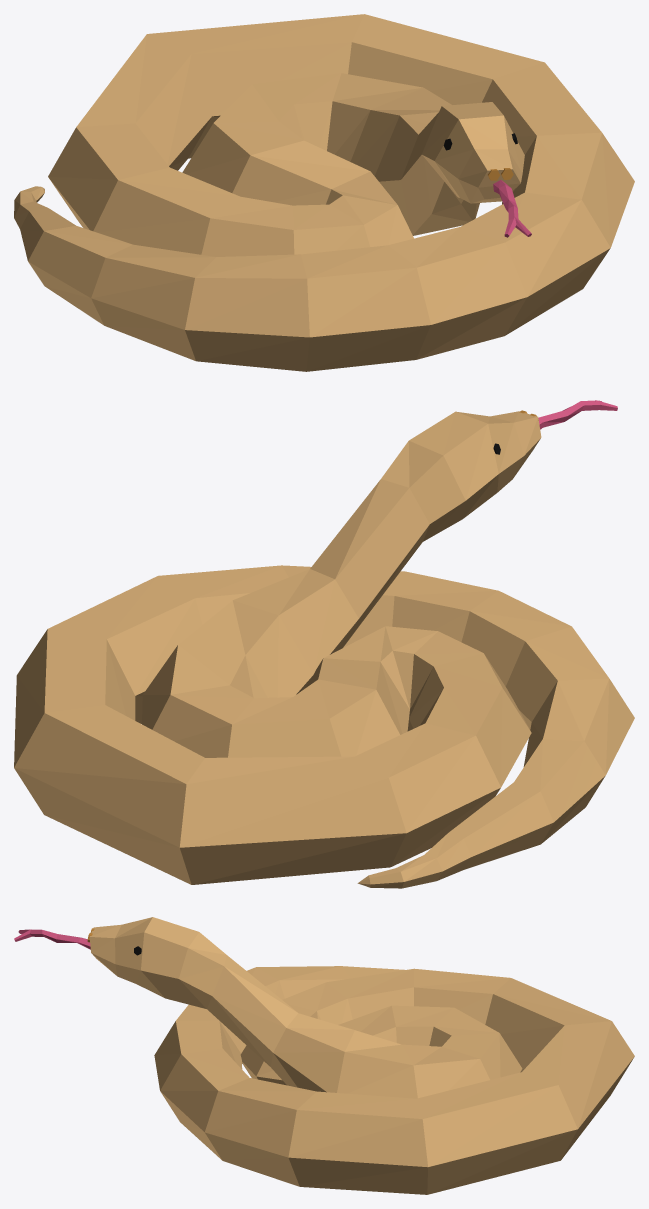
The model's file is serpiente.gltf.
3 renders of one model, top to bottom at view 1: azimuth 30°, elevation 25°; view 2: azimuth 150°, elevation 25°; view 3: azimuth 270°, elevation 25°, orthographic. The views are drawn at different scales.
Visible parts, largest first — view 1: node_MeshObject686712832-PolyPaper21; view 2: node_MeshObject686712832-PolyPaper21; view 3: node_MeshObject686712832-PolyPaper21.
Part boxes in pixels (bbox=[...]): node_MeshObject686712832-PolyPaper21: bbox=[14, 14, 634, 371]; node_MeshObject686712832-PolyPaper21: bbox=[14, 400, 634, 888]; node_MeshObject686712832-PolyPaper21: bbox=[14, 917, 634, 1194].
Size of the model in its own units: 1 by 0.4382 by 1.34.
